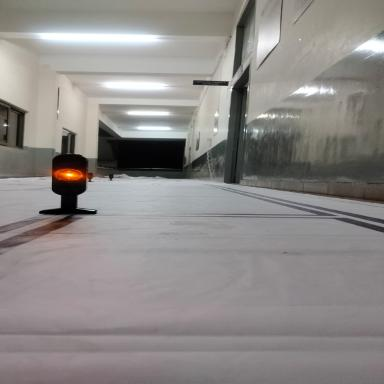yellow: (38, 148, 131, 227)
